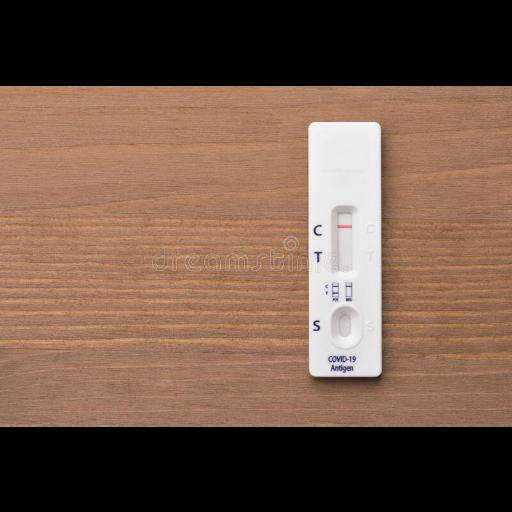Neg: (309, 120, 381, 376)
